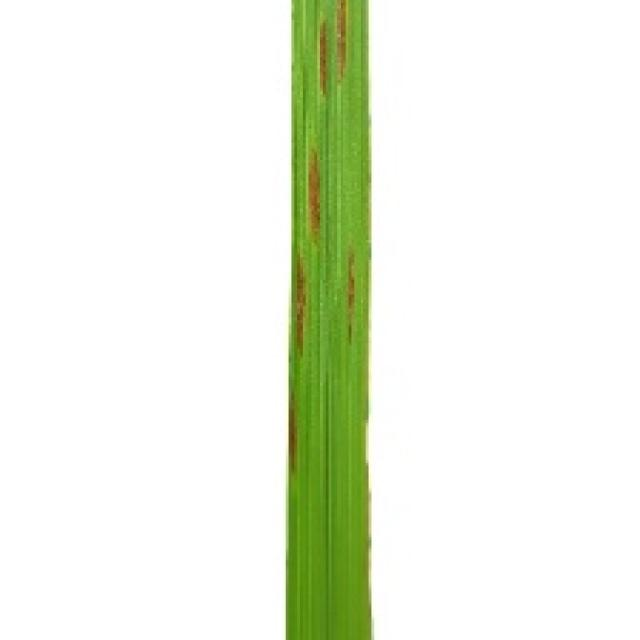Unhealthy: (295, 252, 307, 356), (308, 150, 322, 239), (335, 0, 347, 83), (347, 240, 356, 344), (318, 16, 327, 96), (288, 394, 297, 472)
